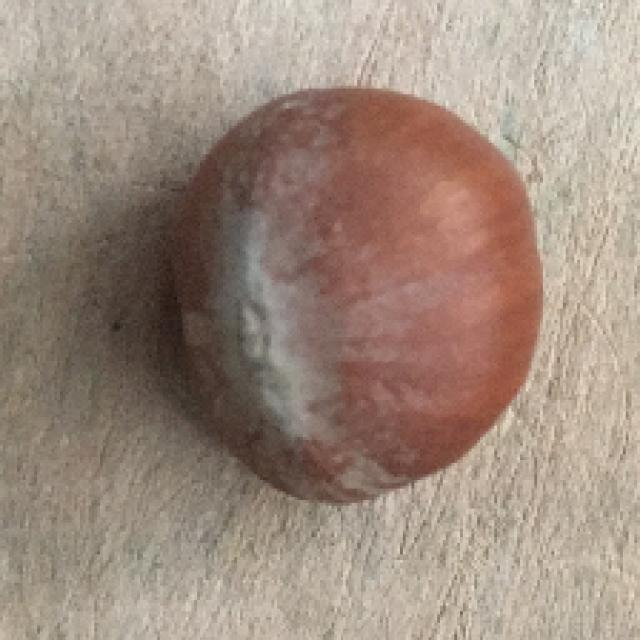qualityHazelnut: (161, 64, 549, 517)
